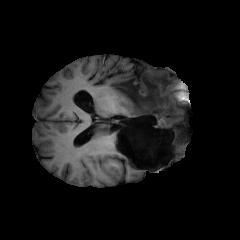glioma: (103, 70, 182, 150)
